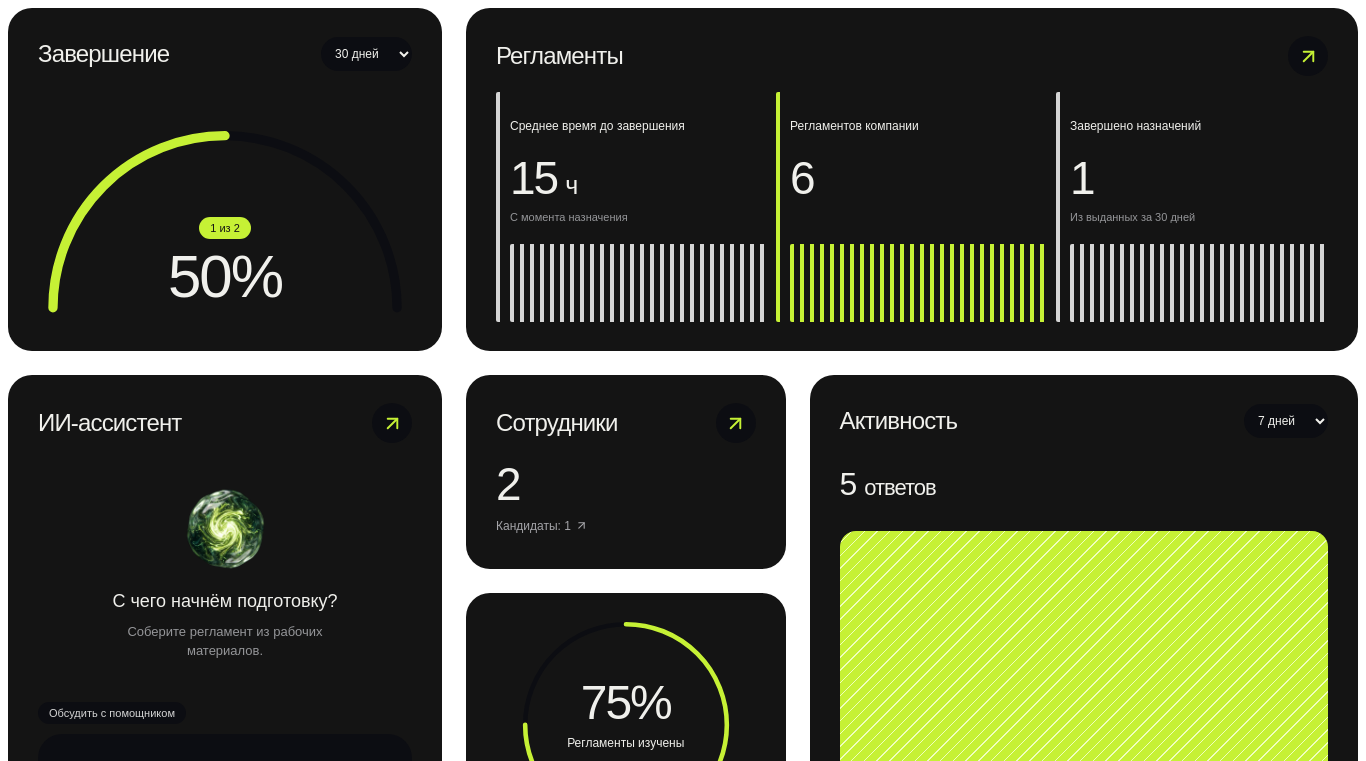
Test: requests the selected periods without relabelling stale values or showing failed metrics as zero
Check: the text "50%" is shown, box x1=168 y1=246 x2=282 y2=306
Select "7 дней" in the dropdown named "Период назначений" next to "Завершение" at (366, 54), box x1=321 y1=37 x2=412 y2=71
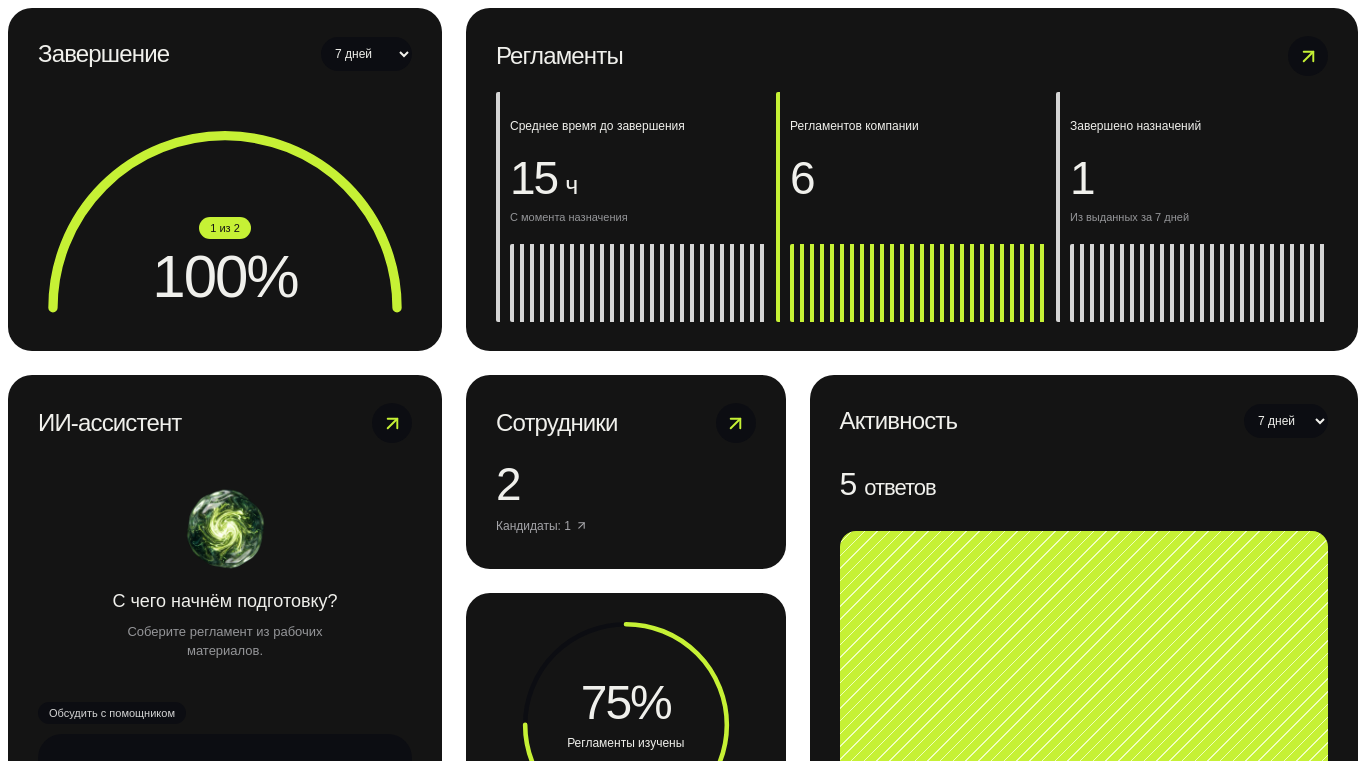
Check: the text "50%" is gone
Check: the text "100%" is shown, box x1=152 y1=246 x2=298 y2=306
Select "14 дней" in the dropdown named "Период активности" in the row of "Активность" at (1286, 421), box x1=1244 y1=404 x2=1328 y2=438
(page scrolled)
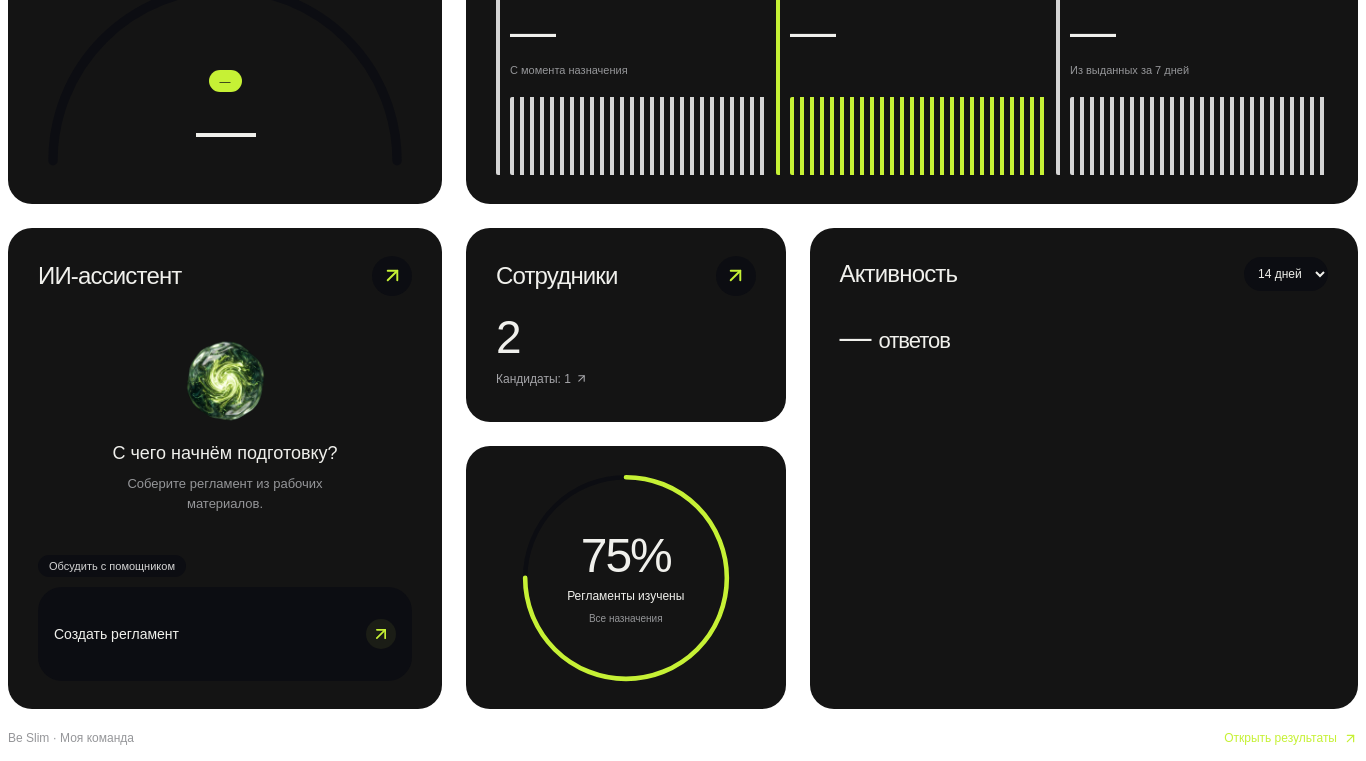
Check: the text "75%" is shown, box x1=581 y1=532 x2=671 y2=580
Check: the text "100%" is gone
